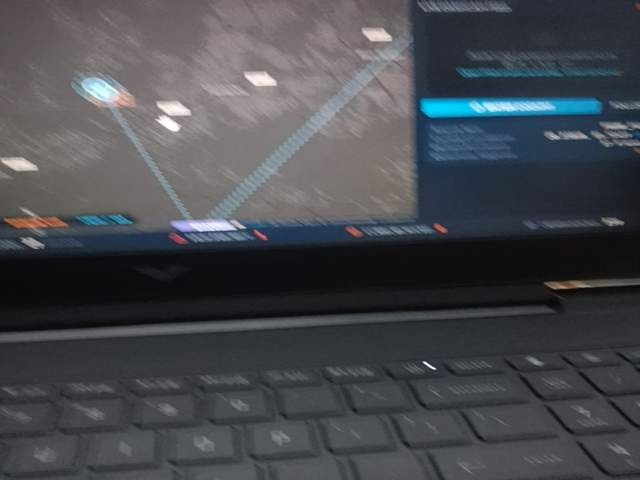pothole: (107, 403, 322, 480), (536, 403, 640, 480)
